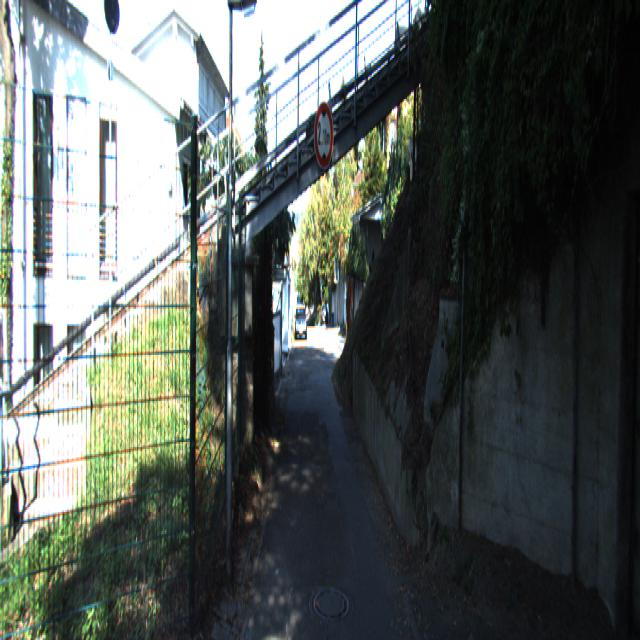Car: (294, 304, 307, 340)
